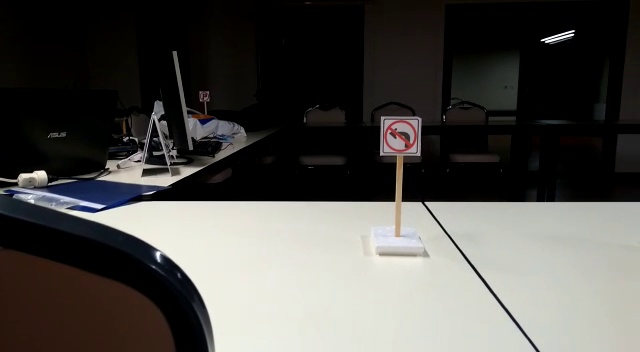sola_donulmez: (379, 117, 422, 156)
